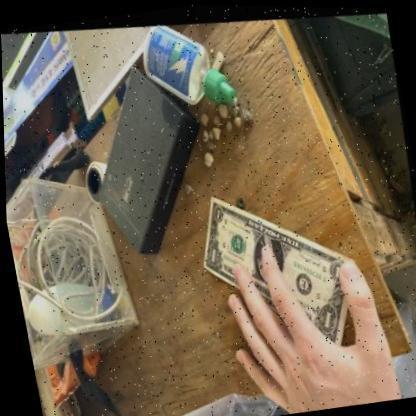one-front: (203, 189, 355, 341)
